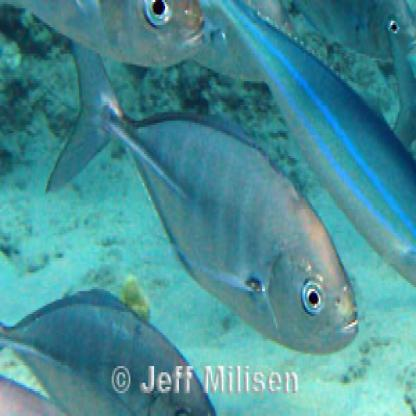Carangidae -Jacks-: (38, 14, 363, 355)
